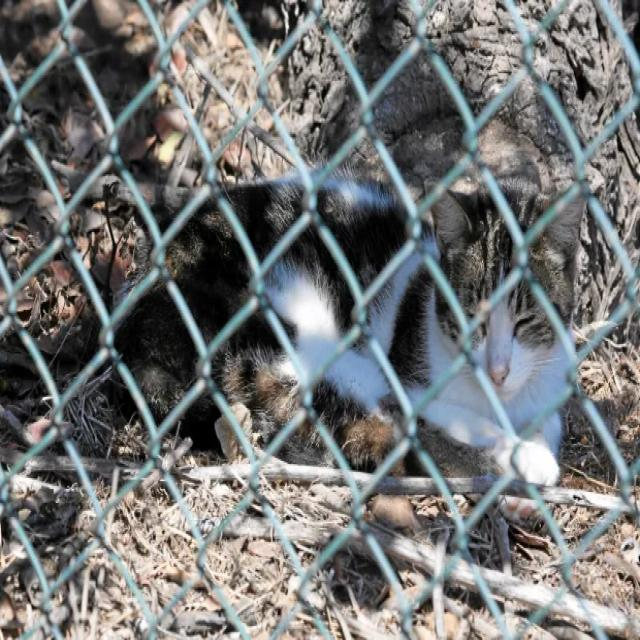cat: (165, 170, 585, 485), (116, 285, 199, 418)
